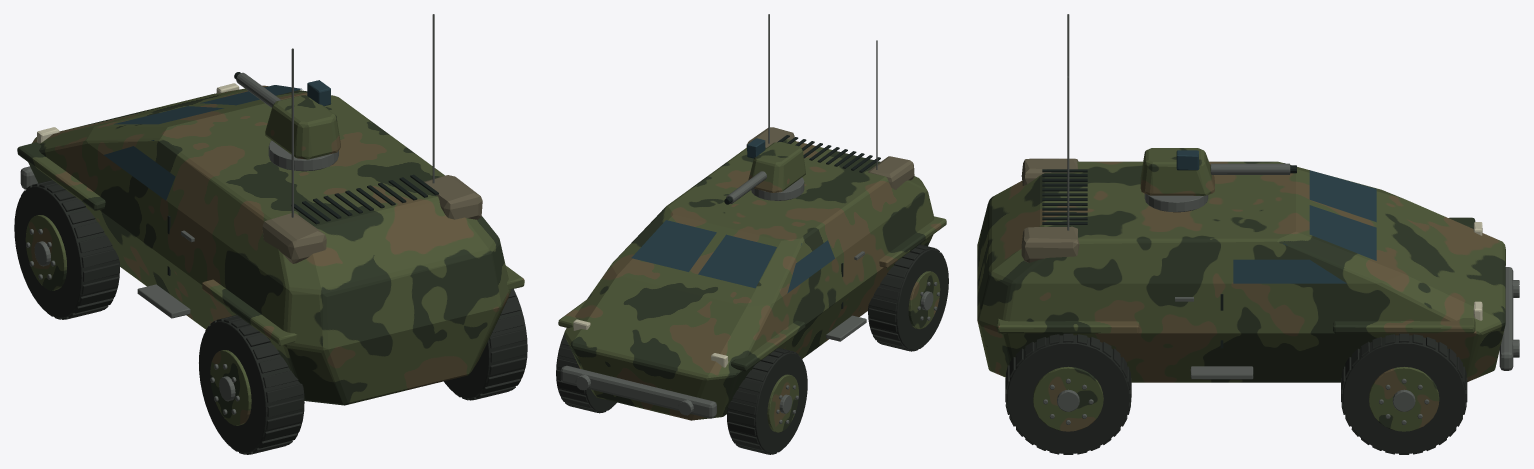
File: recon-lod1.glb
3 views of the same model, side by side, from view 1: azimuth 30°, elevation 25°; view 2: azimuth 150°, elevation 25°; view 3: azimuth 270°, elevation 25° (orthographic). The views are drawn at different scales.
Visible parts, largest first — view 1: Chassis Recon camouflage, Wheel.L.-1.5 Recon rubber, Wheel.L.1.45 Recon rubber, Wheel.R.-1.5 Recon rubber, Chassis Recon stowage, Turret Recon camouflage, Chassis Recon optical glass, Chassis Recon hardware, Wheel.L.-1.5 Recon camouflage, Wheel.L.1.45 Recon camouflage, Chassis Recon recesses, Turret Recon hardware (+3 smaller); view 2: Chassis Recon camouflage, Chassis Recon optical glass, Wheel.L.1.45 Recon rubber, Wheel.L.-1.5 Recon rubber, Chassis Recon hardware, Turret Recon camouflage, Wheel.R.1.45 Recon rubber, Chassis Recon stowage, Wheel.L.-1.5 Recon camouflage, Wheel.L.1.45 Recon camouflage, Chassis Recon recesses, Turret Recon hardware (+1 smaller); view 3: Chassis Recon camouflage, Wheel.R.-1.5 Recon rubber, Wheel.R.1.45 Recon rubber, Chassis Recon optical glass, Wheel.R.1.45 Recon camouflage, Wheel.R.-1.5 Recon camouflage, Chassis Recon hardware, Turret Recon camouflage, Chassis Recon stowage, Chassis Recon recesses, Gun Recon hardware, Turret Recon hardware (+2 smaller).
Boxes of the visible parts, x1=… form: Chassis Recon camouflage: x1=17, y1=85, x2=524, y2=405; Wheel.L.-1.5 Recon rubber: x1=199, y1=315, x2=304, y2=454; Wheel.L.1.45 Recon rubber: x1=14, y1=180, x2=119, y2=319; Wheel.R.-1.5 Recon rubber: x1=444, y1=289, x2=527, y2=400; Chassis Recon stowage: x1=262, y1=175, x2=482, y2=263; Turret Recon camouflage: x1=265, y1=95, x2=340, y2=159; Chassis Recon optical glass: x1=104, y1=85, x2=302, y2=200; Chassis Recon hardware: x1=20, y1=14, x2=434, y2=318; Wheel.L.-1.5 Recon camouflage: x1=210, y1=350, x2=251, y2=425; Wheel.L.1.45 Recon camouflage: x1=25, y1=215, x2=66, y2=290; Chassis Recon recesses: x1=167, y1=174, x2=438, y2=275; Turret Recon hardware: x1=268, y1=140, x2=338, y2=171; Chassis Recon camouflage: x1=558, y1=139, x2=946, y2=420; Chassis Recon optical glass: x1=631, y1=210, x2=834, y2=293; Wheel.L.1.45 Recon rubber: x1=727, y1=348, x2=807, y2=454; Wheel.L.-1.5 Recon rubber: x1=868, y1=244, x2=948, y2=351; Chassis Recon hardware: x1=560, y1=14, x2=877, y2=418; Turret Recon camouflage: x1=748, y1=142, x2=805, y2=192; Wheel.R.1.45 Recon rubber: x1=556, y1=328, x2=616, y2=413; Chassis Recon stowage: x1=746, y1=127, x2=914, y2=189; Wheel.L.-1.5 Recon camouflage: x1=908, y1=271, x2=940, y2=329; Wheel.L.1.45 Recon camouflage: x1=767, y1=374, x2=798, y2=432; Chassis Recon recesses: x1=777, y1=135, x2=880, y2=308; Turret Recon hardware: x1=751, y1=177, x2=804, y2=200; Chassis Recon camouflage: x1=977, y1=161, x2=1505, y2=382; Wheel.R.-1.5 Recon rubber: x1=1005, y1=333, x2=1131, y2=454; Wheel.R.1.45 Recon rubber: x1=1341, y1=333, x2=1467, y2=454; Chassis Recon optical glass: x1=1233, y1=163, x2=1376, y2=283; Wheel.R.1.45 Recon camouflage: x1=1369, y1=367, x2=1439, y2=431; Wheel.R.-1.5 Recon camouflage: x1=1033, y1=366, x2=1103, y2=431; Chassis Recon hardware: x1=1067, y1=14, x2=1519, y2=379; Turret Recon camouflage: x1=1140, y1=148, x2=1214, y2=195; Chassis Recon stowage: x1=1021, y1=158, x2=1079, y2=262; Chassis Recon recesses: x1=1042, y1=169, x2=1223, y2=348; Gun Recon hardware: x1=1210, y1=163, x2=1290, y2=174; Turret Recon hardware: x1=1144, y1=193, x2=1208, y2=212.
Bounding box in the file's own units: 2.57 × 3.42 × 4.77.
Materials: 7 (1 with a texture image).
